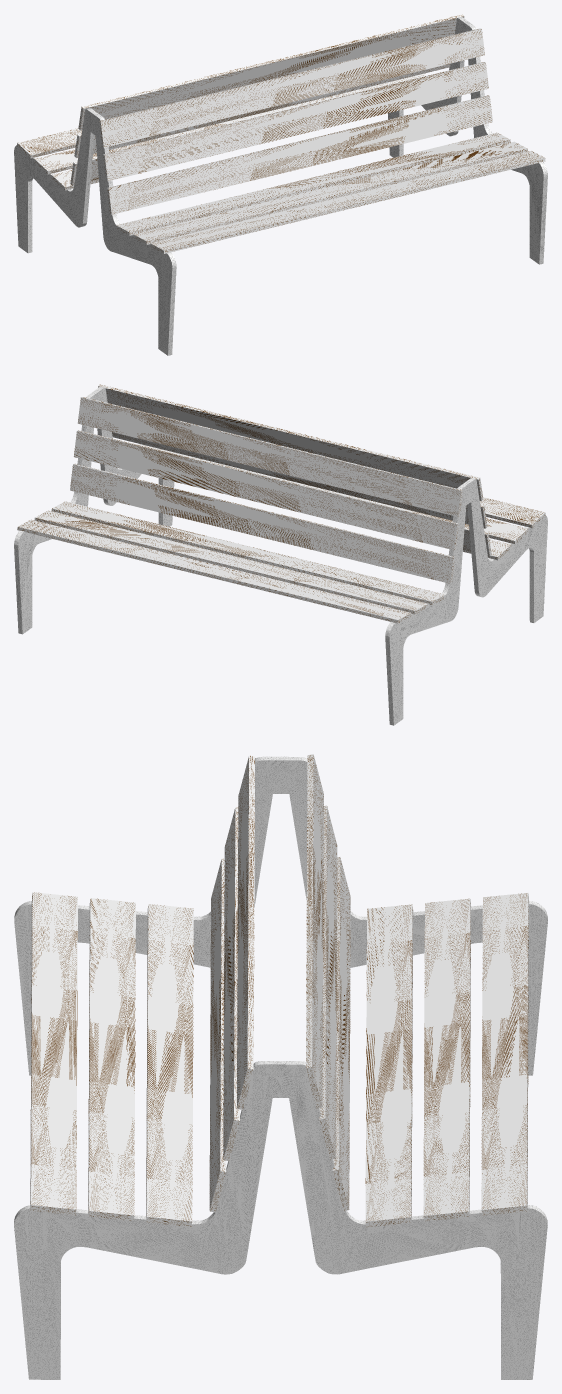
3 renders of one model, top to bottom at view 1: azimuth 30°, elevation 25°; view 2: azimuth 150°, elevation 25°; view 3: azimuth 270°, elevation 25°, orthographic. The views are drawn at different scales.
Visible parts, largest first — view 1: mesh1_mesh1-geometry, mesh3_mesh3-geometry; view 2: mesh1_mesh1-geometry, mesh3_mesh3-geometry; view 3: mesh1_mesh1-geometry, mesh3_mesh3-geometry.
Part boxes in pixels (x1,y1,x2,y2): mesh1_mesh1-geometry: [17, 14, 545, 253]; mesh3_mesh3-geometry: [14, 17, 547, 355]; mesh1_mesh1-geometry: [17, 384, 545, 623]; mesh3_mesh3-geometry: [14, 386, 547, 725]; mesh1_mesh1-geometry: [30, 754, 528, 1227]; mesh3_mesh3-geometry: [14, 756, 547, 1379].
Bounding box in the file's own units: 0.7586 × 0.3568 × 0.5452.
